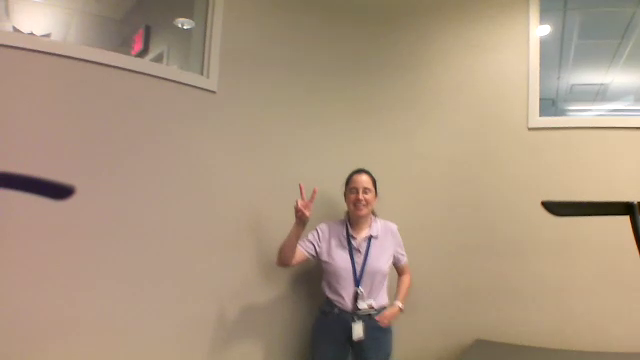peace: (289, 181, 321, 225)
